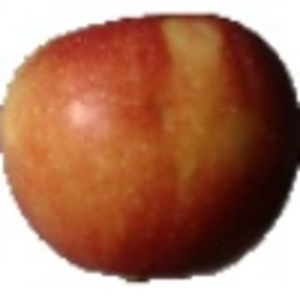maçã braeburn: (1, 11, 300, 282)
